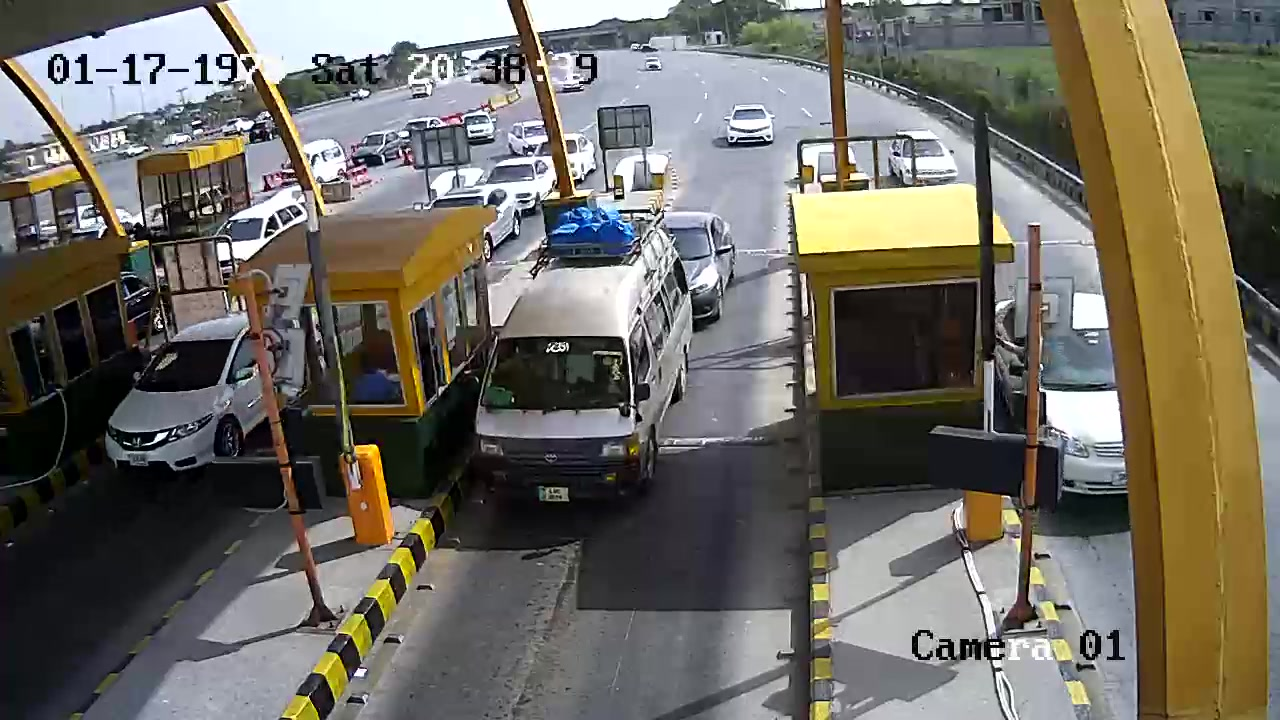F2: (472, 204, 706, 515)
